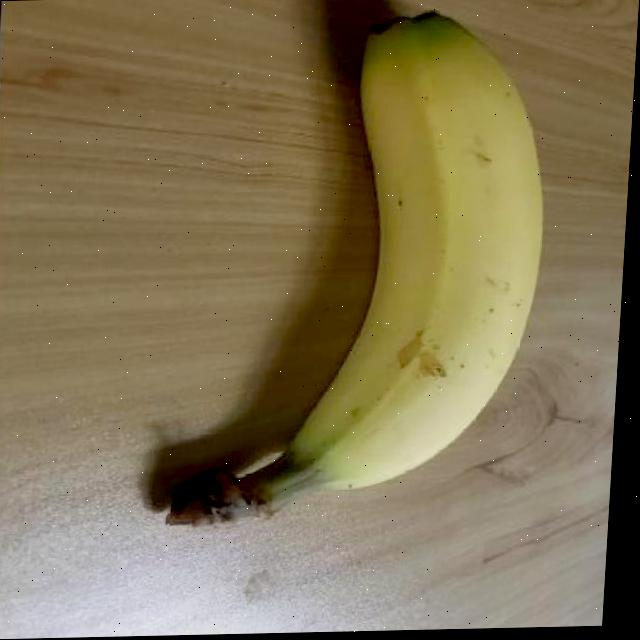banana: (170, 9, 557, 534)
